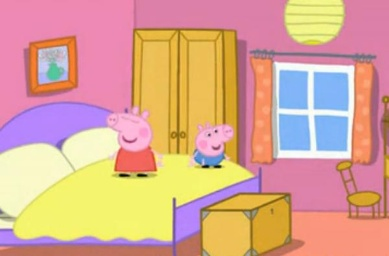Peppa: (104, 107, 164, 181)
